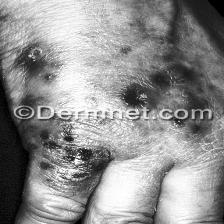Toxin: (37, 130, 105, 188), (124, 85, 150, 106), (25, 46, 45, 62)
